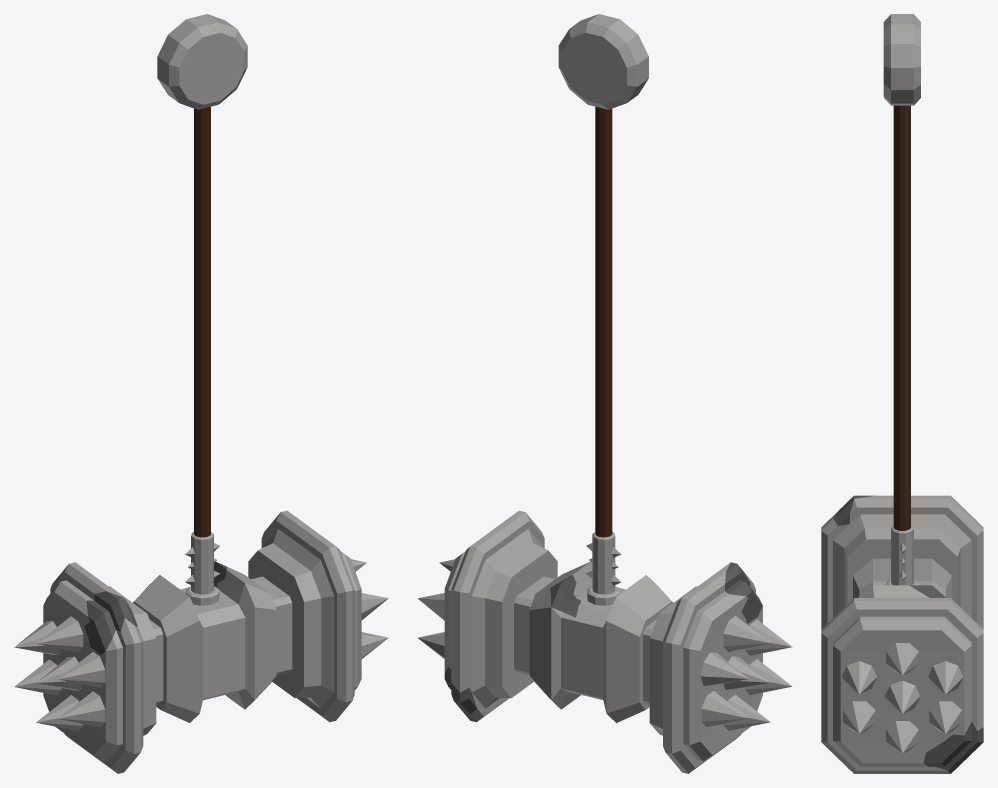
Rendered from MetalPendulumTrap_15.fbx.
3 renders of one model, left to right at view 1: azimuth 30°, elevation 25°; view 2: azimuth 150°, elevation 25°; view 3: azimuth 270°, elevation 25°, orthographic.
Parts seen in each view (by area): view 1: MetalPendulumTrap_15; view 2: MetalPendulumTrap_15; view 3: MetalPendulumTrap_15.
Part boxes in pixels (box(x1,y1,x2,y2)): MetalPendulumTrap_15: box(14, 14, 388, 773); MetalPendulumTrap_15: box(417, 14, 792, 773); MetalPendulumTrap_15: box(821, 14, 983, 773).
Size of the model in its own units: 159 by 326 by 68.32.
